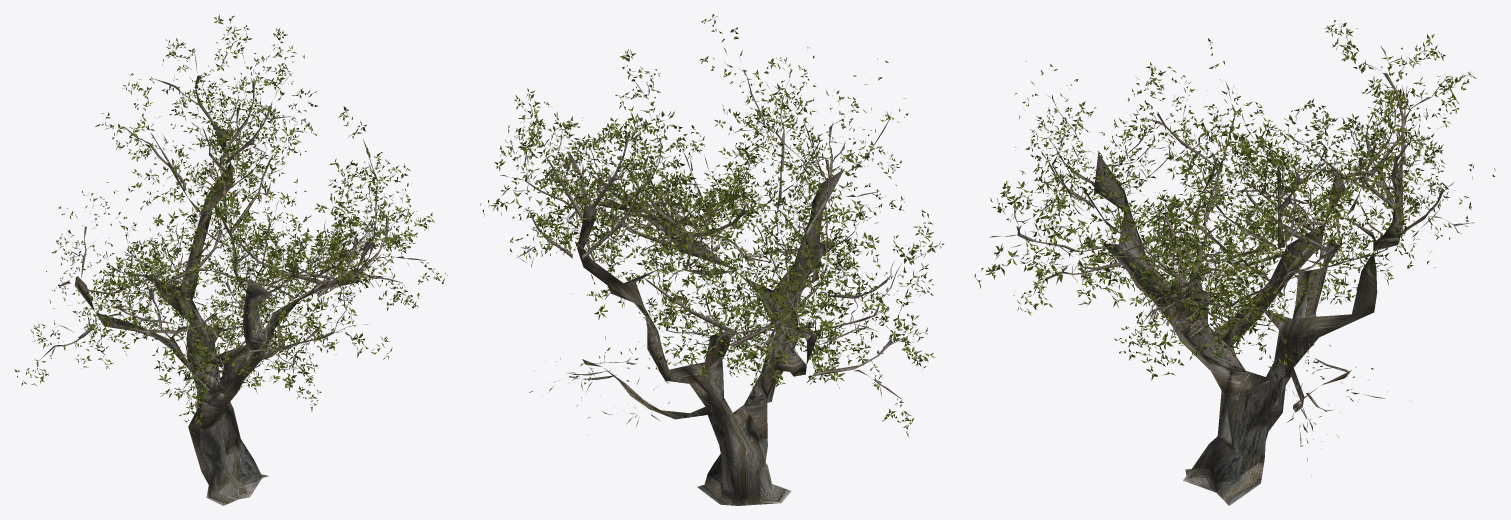
File: island_tree_01.glb
The picture shows the model from 3 angles, left to right: view 1: azimuth 30°, elevation 25°; view 2: azimuth 150°, elevation 25°; view 3: azimuth 270°, elevation 25°; orthographic projection. The views are drawn at different scales.
Visible parts, largest first — view 1: island_tree_01_LOD0; view 2: island_tree_01_LOD0; view 3: island_tree_01_LOD0.
Boxes of the visible parts, x1=… form: island_tree_01_LOD0: x1=14, y1=14, x2=447, y2=505; island_tree_01_LOD0: x1=480, y1=14, x2=944, y2=505; island_tree_01_LOD0: x1=974, y1=20, x2=1495, y2=505.
Size of the model in its own units: 4.73 by 5.02 by 4.76.
3 materials, 3 textured.
